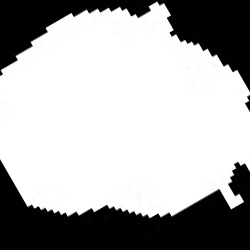spot: (1, 2, 249, 218)
